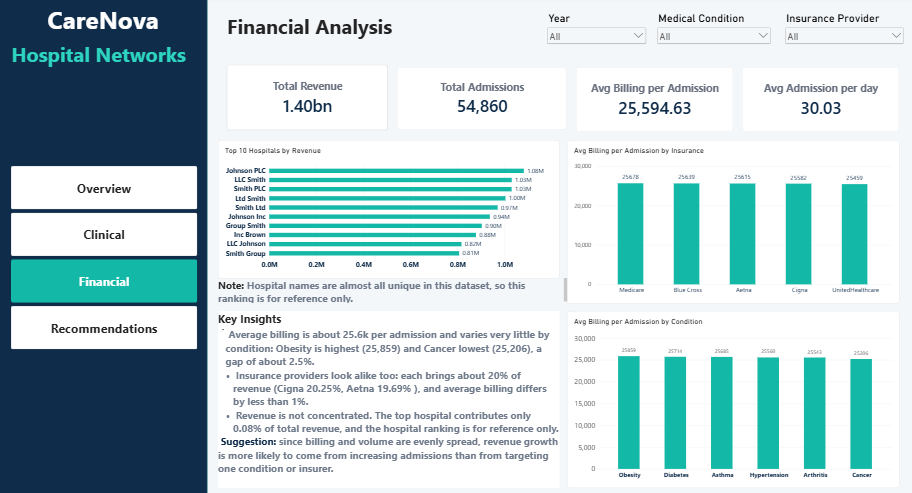

This screenshot's page, from the dashboard's own definition file:
{"tool":"powerbi","page":{"name":"Financial","canvas":[2200,1200],"ordinal":2},"visuals":[{"type":"cardVisual","fields":{"Data":["measures (2).Total Revenue"]},"box":[547.5,165,385,155],"z":0},{"type":"cardVisual","fields":{"Data":["measures (2).Total Admissions"]},"box":[955,170,407.5,150],"z":1000},{"type":"cardVisual","fields":{"Data":["measures (2).Avg Billing per Admission"]},"box":[1385,170,377.5,155],"z":2000},{"type":"cardVisual","fields":{"Data":["measures (2).Avg Admission per day"]},"box":[1782.5,170,377.5,155],"z":3000},{"type":"slicer","fields":{"Values":["dim_date.Year"]},"box":[1310,37.5,247.5,167.5],"z":4000},{"type":"slicer","fields":{"Values":["dim_condition.Medical Condition"]},"box":[1575,37.5,282.5,167.5],"z":5000},{"type":"slicer","fields":{"Values":["dim_insurance.Insurance Provider"]},"box":[1882.5,37.5,295,167.5],"z":6000},{"type":"shape","box":[0,0,500,1200],"z":7000},{"type":"textbox","box":[0,17.5,500,87.5],"z":8000},{"type":"textbox","box":[0,105,477.5,65],"z":9000},{"type":"textbox","box":[547.5,37.5,612.5,67.5],"z":10000},{"type":"clusteredColumnChart","title":"Avg Billing per Admission by Condition","fields":{"Category":["dim_condition.Medical Condition"],"Y":["measures (2).Avg Billing per Admission"]},"box":[1362.5,755,797.5,425],"z":11000},{"type":"clusteredColumnChart","title":"Avg Billing per Admission by Insurance","fields":{"Category":["dim_insurance.Insurance Provider"],"Y":["measures (2).Avg Billing per Admission"]},"box":[1362.5,345,797.5,392.5],"z":12000},{"type":"clusteredBarChart","title":"Top 10 Hospitals by Revenue","fields":{"Category":["fact_admissions.Hospital"],"Y":["measures (2).Total Revenue"]},"box":[525,345,820,332.5],"z":13000},{"type":"textbox","box":[525,677.5,837.5,60],"z":14000},{"type":"textbox","box":[525,755,820,425],"z":15000},{"type":"pageNavigator","box":[28.9,407.9,447.4,442.1],"z":16000}]}

Visuals, with their boxes in screenshot pixels (x1, y1, x2, y2), scaled from the page's 2200x1200 canvas onto the 912x493 screenshot:
cardVisual - measures (2).Total Revenue: 227,68,387,131
cardVisual - measures (2).Total Admissions: 396,70,565,131
cardVisual - measures (2).Avg Billing per Admission: 574,70,731,134
cardVisual - measures (2).Avg Admission per day: 739,70,895,134
slicer - dim_date.Year: 543,15,646,84
slicer - dim_condition.Medical Condition: 653,15,770,84
slicer - dim_insurance.Insurance Provider: 780,15,903,84
shape: 0,0,207,492
textbox: 0,7,207,43
textbox: 0,43,198,70
textbox: 227,15,481,43
"Avg Billing per Admission by Condition" clusteredColumnChart: 565,310,895,485
"Avg Billing per Admission by Insurance" clusteredColumnChart: 565,142,895,303
"Top 10 Hospitals by Revenue" clusteredBarChart: 218,142,558,278
textbox: 218,278,565,303
textbox: 218,310,558,485
pageNavigator: 12,168,197,349
